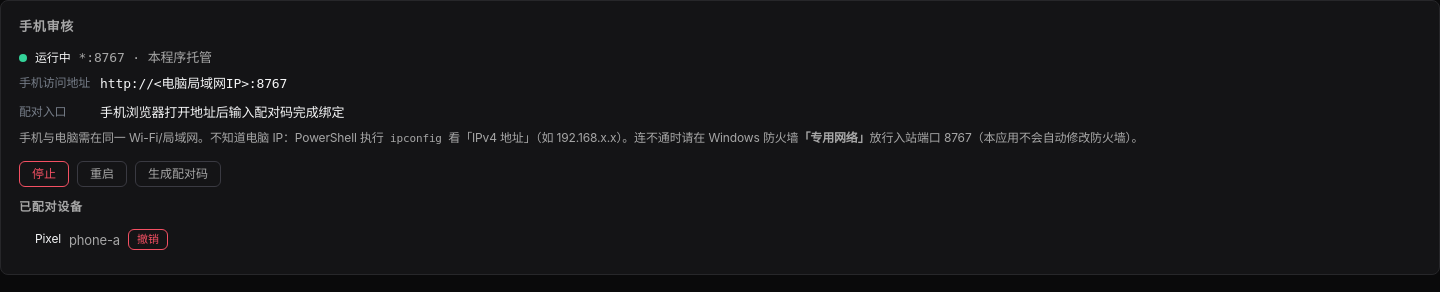
MobileReviewSettings：已配对设备 › 渲染设备列表；点击撤销 → revokeDevice 并刷新列表
expect the text "Pixel" is shown: met, box x1=35 y1=231 x2=61 y2=248
What coordinates should you click on to do the following:
click the button "撤销"
I would click on:
 (148, 240)
Its box is x1=128 y1=229 x2=168 y2=250.
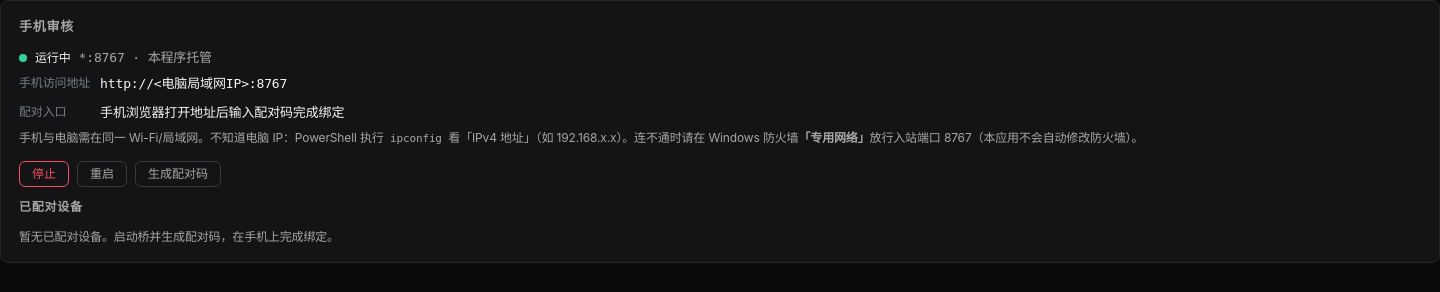
expect the text "暂无已配对设备。启动桥并生成配对码，在手机上完成绑定。" is shown: met, box x1=19 y1=229 x2=339 y2=244
